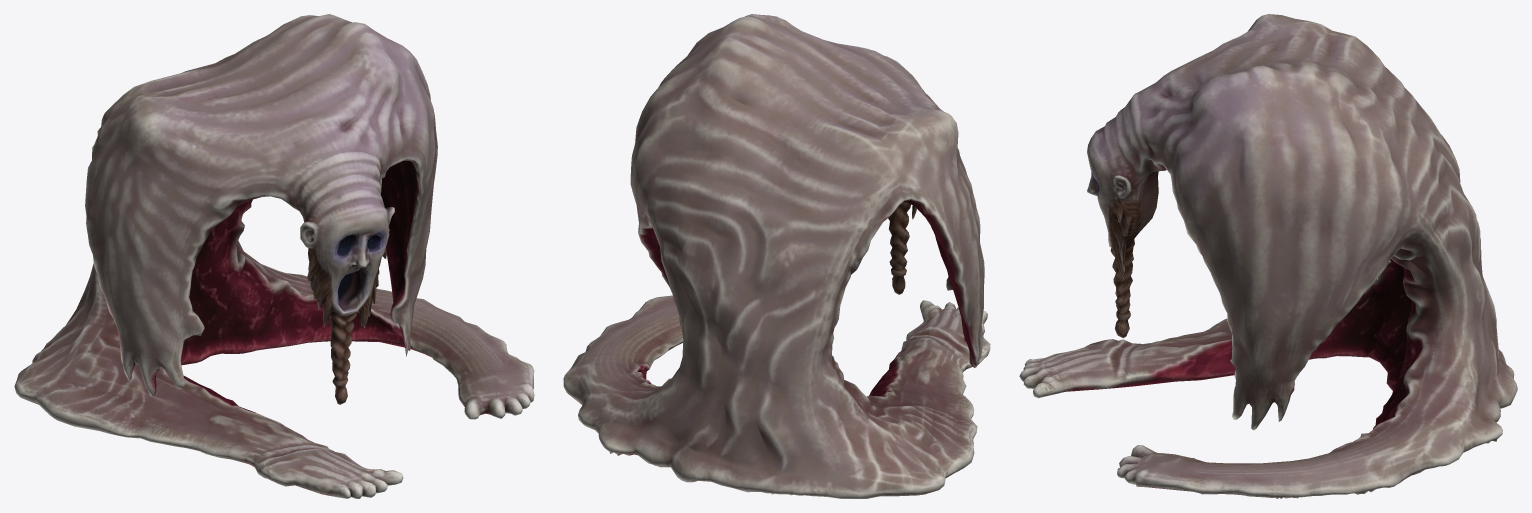
File: MZ4250 - Boneless.glb
3 views of the same model, side by side, from view 1: azimuth 30°, elevation 25°; view 2: azimuth 150°, elevation 25°; view 3: azimuth 270°, elevation 25° (orthographic).
Visible parts, largest first — view 1: body_low.001; view 2: body_low.001; view 3: body_low.001.
Boxes of the visible parts, x1=… form: body_low.001: x1=14, y1=14, x2=534, y2=498; body_low.001: x1=563, y1=14, x2=990, y2=498; body_low.001: x1=1019, y1=14, x2=1517, y2=498.
Size of the model in its own units: 6.92 by 5.95 by 7.18.
1 material, 1 textured.
